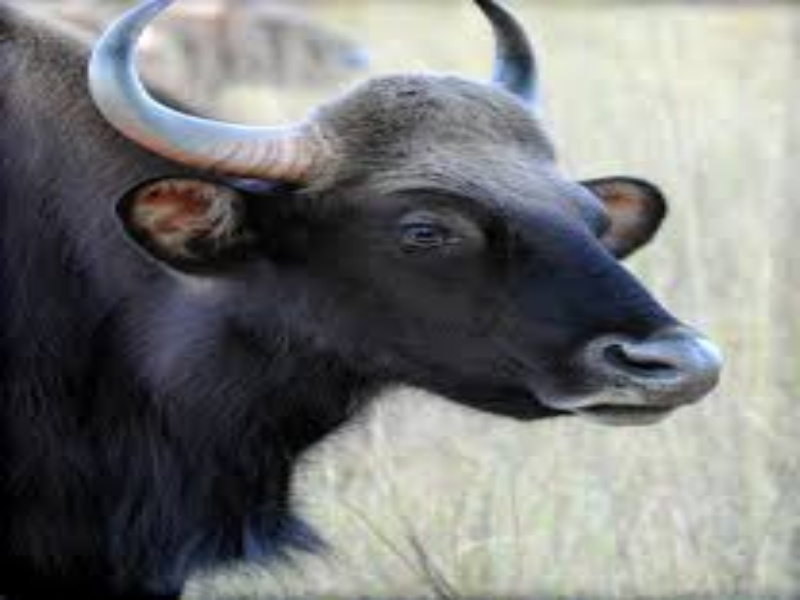buffalo: (23, 9, 733, 575)
